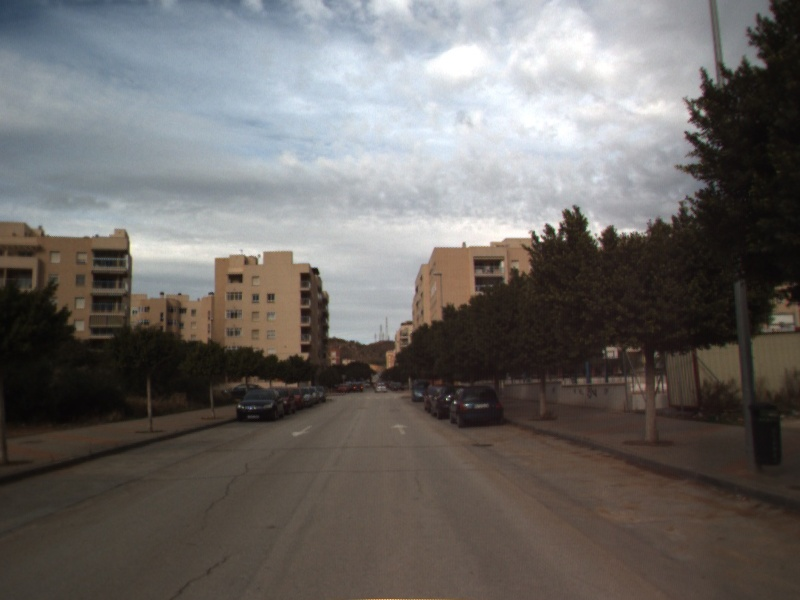STRAIGHT: (389, 421, 411, 437)
